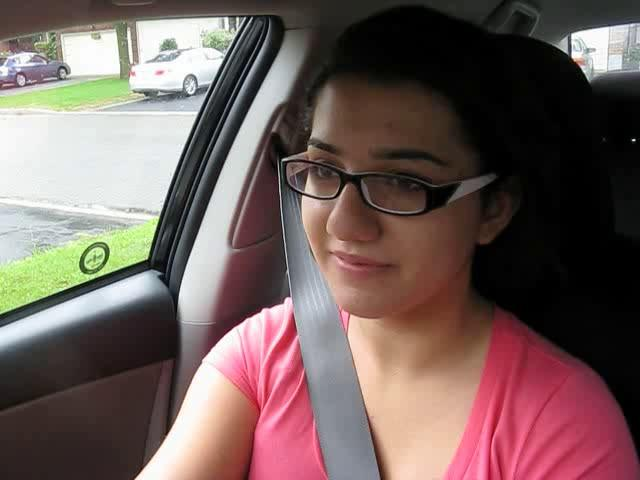no_yawn: (307, 240, 406, 293)
open_eyeL: (291, 151, 352, 197)
open_eyeR: (364, 161, 451, 213)
